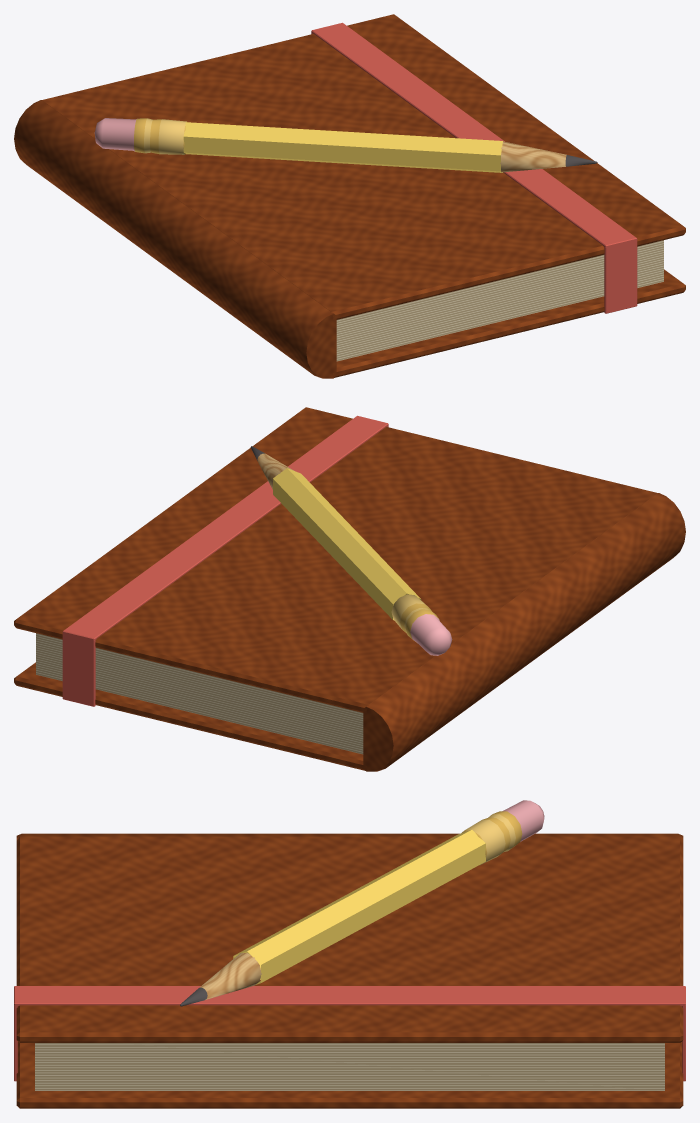
File: table_carnet.glb
3 views of the same model, one above another, from view 1: azimuth 30°, elevation 25°; view 2: azimuth 150°, elevation 25°; view 3: azimuth 270°, elevation 25° (orthographic). The views are drawn at different scales.
Visible parts, largest first — view 1: table_carnet; view 2: table_carnet; view 3: table_carnet.
Boxes of the visible parts, x1=… form: table_carnet: x1=14, y1=14, x2=685, y2=378; table_carnet: x1=14, y1=407, x2=685, y2=771; table_carnet: x1=14, y1=800, x2=685, y2=1108.
Bounding box in the file's own units: 6 × 1.48 × 8.
9 materials, 3 textured.
